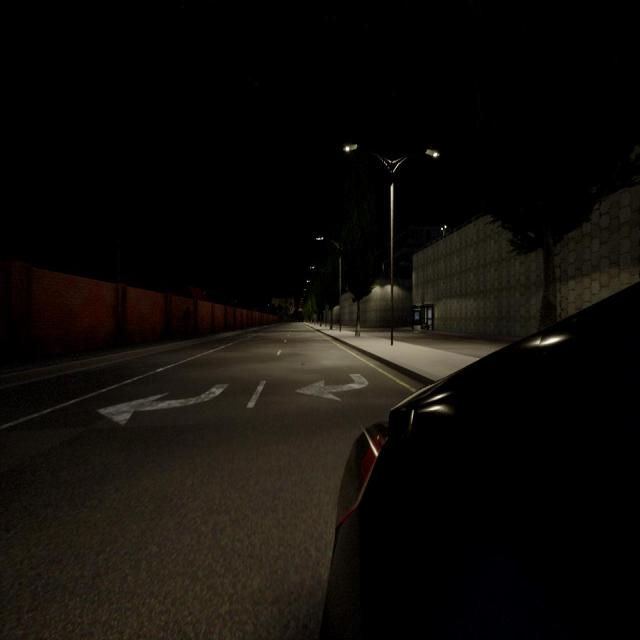Pedestrian: (185, 304, 192, 334)
Vehicle: (320, 282, 640, 637)
